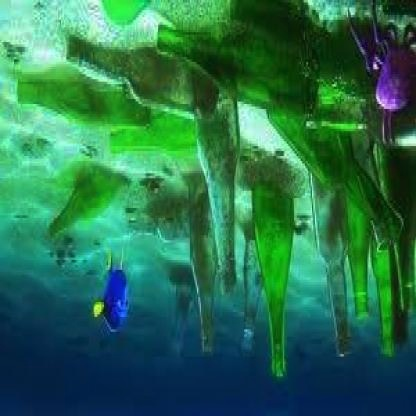gbottle: (156, 20, 318, 119), (66, 35, 216, 116), (193, 52, 240, 297), (252, 178, 297, 379), (17, 72, 150, 126), (48, 166, 129, 240)
